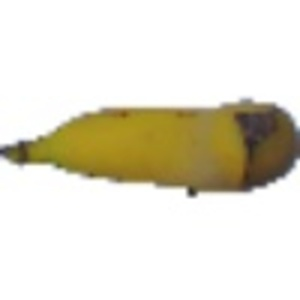banana: (2, 100, 293, 202)
